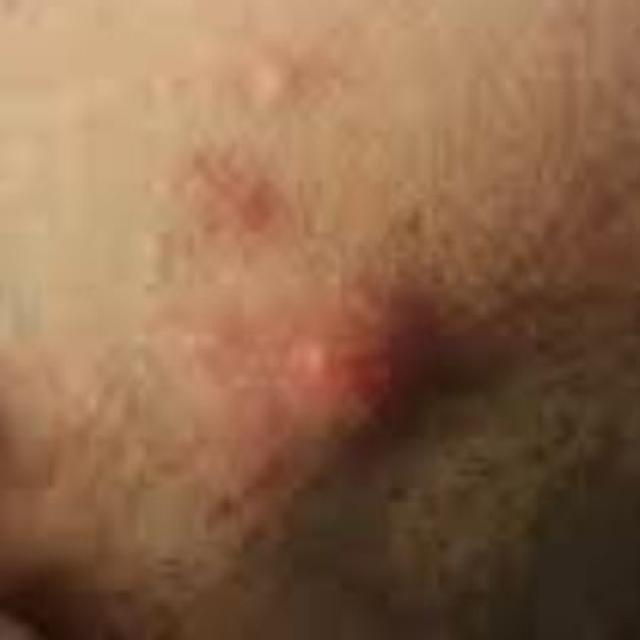nodule: (240, 236, 457, 439)
